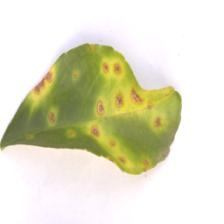canker: (12, 35, 214, 199)
